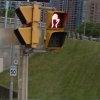Traffic light: (10, 2, 74, 60)
